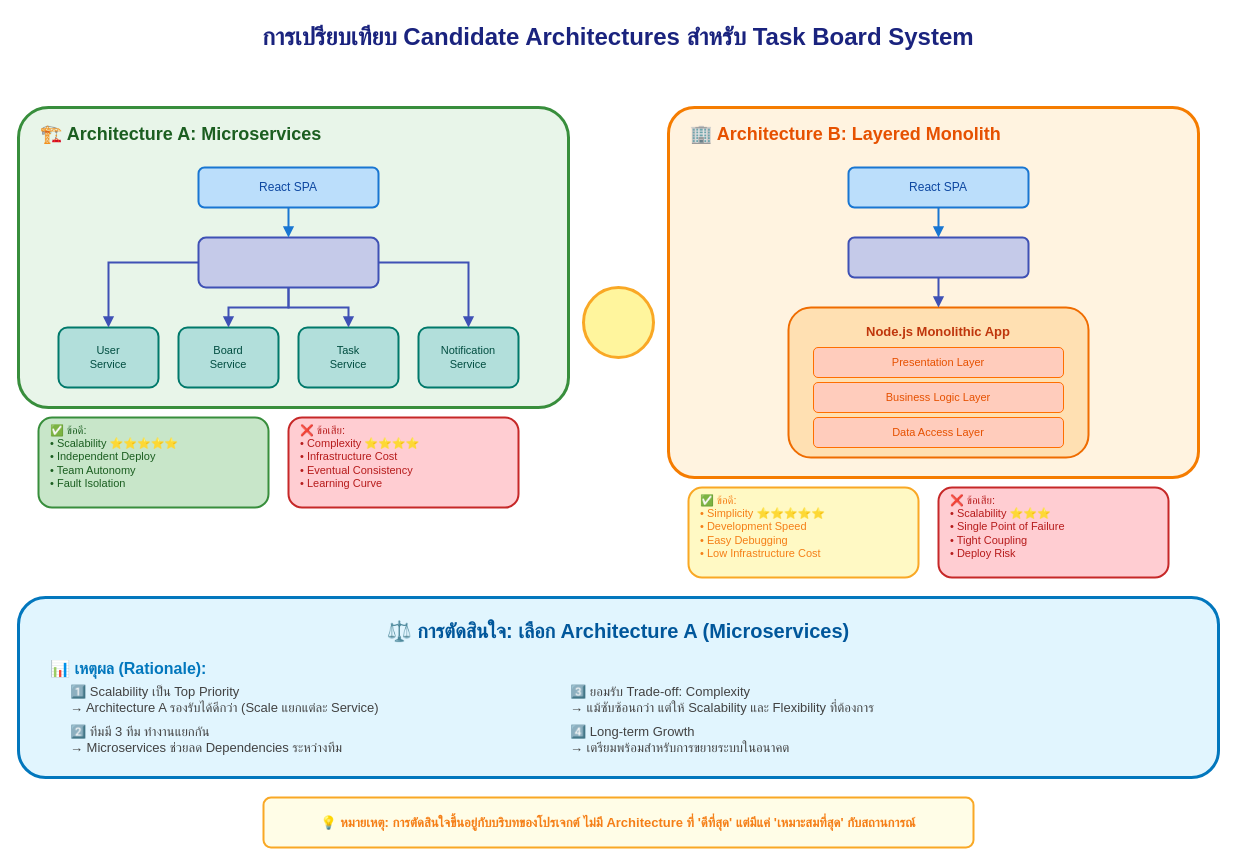
Some shapes in this 1237 by 865 pixel diagram are drawn without their labels. Each missing label, with the box of its shape:
API Gateway (Kong/NGINX): (197, 236, 379, 288)
Load Balancer: (847, 236, 1029, 278)
VS: (582, 286, 654, 358)
